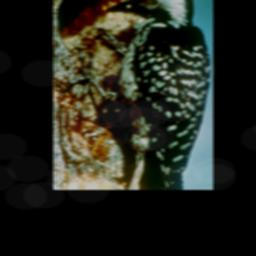Woodpecker: (63, 0, 211, 190)
